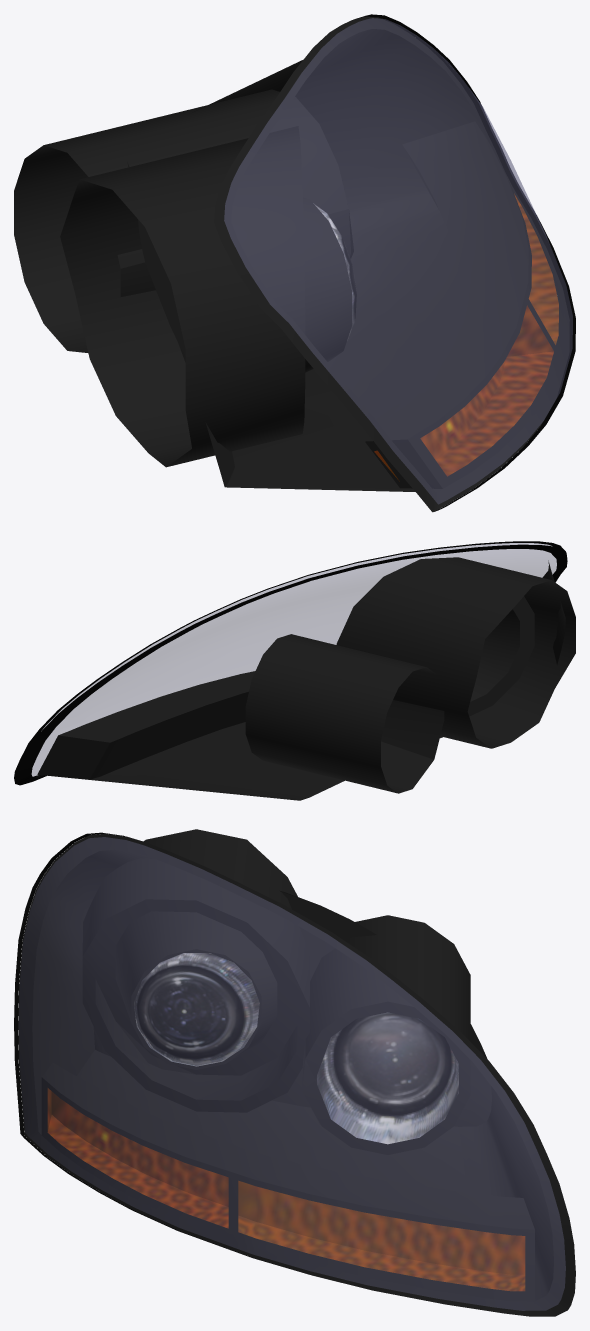
The picture shows the model from 3 angles, top to bottom: view 1: azimuth 30°, elevation 25°; view 2: azimuth 150°, elevation 25°; view 3: azimuth 270°, elevation 25°; orthographic projection. The views are drawn at different scales.
Parts seen in each view (by area): view 1: X6164_18_061B_R_X6164_18_061B_R_7_DaS, X6164_18_061B_R_X6164_18_061B_R_6_DTaSI, X6164_18_061B_R_X6164_18_061B_R_2_N, X6164_18_061B_R_X6164_18_061B_R_4_D, X6164_18_061B_R_X6164_18_061B_R_3_N, X6164_18_061B_R_X6164_18_061B_R_5_N; view 2: X6164_18_061B_R_X6164_18_061B_R_7_DaS, X6164_18_061B_R_X6164_18_061B_R_6_DTaSI, X6164_18_061B_R_X6164_18_061B_R_4_D; view 3: X6164_18_061B_R_X6164_18_061B_R_6_DTaSI, X6164_18_061B_R_X6164_18_061B_R_7_DaS, X6164_18_061B_R_X6164_18_061B_R_3_N, X6164_18_061B_R_1_N_X6164_18_061B_R, X6164_18_061B_R_X6164_18_061B_R_5_N, X6164_18_061B_R_X6164_18_061B_R_2_N, X6164_18_061B_R_X6164_18_061B_R_4_D.
Boxes of the visible parts, x1,y1,x2,y2 form: X6164_18_061B_R_X6164_18_061B_R_7_DaS: [14, 16, 569, 512]; X6164_18_061B_R_X6164_18_061B_R_6_DTaSI: [224, 18, 572, 504]; X6164_18_061B_R_X6164_18_061B_R_2_N: [374, 305, 553, 481]; X6164_18_061B_R_X6164_18_061B_R_4_D: [356, 14, 575, 511]; X6164_18_061B_R_X6164_18_061B_R_3_N: [514, 194, 558, 344]; X6164_18_061B_R_X6164_18_061B_R_5_N: [313, 203, 356, 340]; X6164_18_061B_R_X6164_18_061B_R_7_DaS: [37, 557, 575, 800]; X6164_18_061B_R_X6164_18_061B_R_6_DTaSI: [32, 543, 556, 776]; X6164_18_061B_R_X6164_18_061B_R_4_D: [14, 541, 567, 785]; X6164_18_061B_R_X6164_18_061B_R_6_DTaSI: [19, 837, 565, 1310]; X6164_18_061B_R_X6164_18_061B_R_7_DaS: [18, 829, 575, 1316]; X6164_18_061B_R_X6164_18_061B_R_3_N: [238, 1181, 525, 1291]; X6164_18_061B_R_1_N_X6164_18_061B_R: [317, 1012, 458, 1144]; X6164_18_061B_R_X6164_18_061B_R_5_N: [134, 953, 259, 1066]; X6164_18_061B_R_X6164_18_061B_R_2_N: [47, 1088, 228, 1228]; X6164_18_061B_R_X6164_18_061B_R_4_D: [14, 832, 254, 1258].
Bounding box in the file's own units: 42.29 × 22.39 × 41.68.
